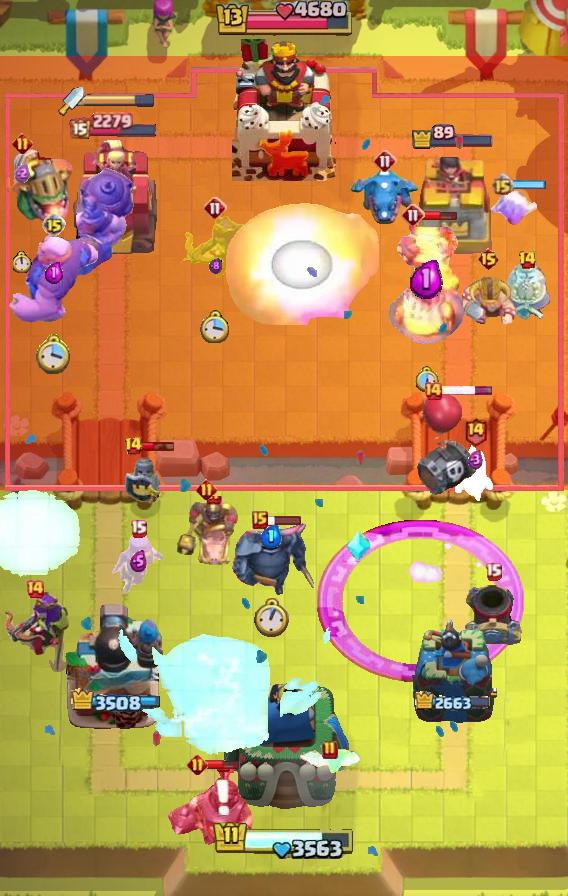balloon: (7, 233, 101, 325)
bar: (70, 138, 158, 256)
barbarian: (297, 748, 363, 778)
barbarian-hut: (176, 214, 254, 300), (0, 589, 75, 675)
bat: (455, 444, 495, 502)
clock: (212, 820, 356, 862), (213, 1, 355, 39)
electro-dragon: (387, 219, 465, 347)
electro-spirit: (409, 258, 443, 299), (261, 524, 282, 547), (45, 260, 63, 283), (130, 550, 147, 572), (14, 163, 30, 183), (469, 450, 483, 470), (210, 258, 223, 274)
elixir: (35, 332, 72, 374), (254, 598, 289, 638), (200, 309, 230, 342), (414, 366, 438, 393), (12, 251, 31, 273)
elixir-collector: (499, 262, 555, 322)
emote: (442, 385, 495, 396), (140, 440, 176, 452), (266, 514, 302, 526), (204, 759, 240, 771), (422, 210, 458, 221), (513, 178, 548, 189)
freeze: (172, 496, 240, 570)
goblin-giant: (460, 275, 516, 329)
golemite: (228, 520, 314, 596)
graveyard: (349, 165, 421, 227)
king-tower: (219, 678, 349, 826), (232, 39, 336, 181)
king-tower-bar: (84, 93, 156, 107)
knight-evolution: (317, 518, 524, 682)
mega-knight: (117, 613, 334, 759), (1, 487, 84, 581)
mirror: (491, 189, 541, 227)
musketeer: (462, 581, 524, 649)
night-witch: (0, 147, 76, 225)
pad_2: (346, 530, 372, 562)
princess: (124, 450, 164, 508)
queen-tower: (409, 616, 497, 731), (410, 154, 496, 256)
rascal-girl: (110, 532, 166, 598)
royal-guardian: (164, 766, 260, 856)
royal-recruit-evolution: (412, 391, 478, 495)
selected: (69, 111, 159, 139), (68, 688, 159, 714), (411, 124, 495, 150), (416, 690, 493, 714)
text: (463, 417, 488, 448), (373, 149, 397, 173), (203, 196, 227, 220), (401, 203, 425, 227), (42, 213, 66, 237), (491, 172, 514, 196), (477, 247, 500, 271), (195, 479, 217, 501), (11, 133, 32, 154), (188, 754, 209, 775), (423, 381, 443, 401), (25, 579, 45, 599), (518, 250, 537, 270), (124, 436, 143, 456), (130, 519, 147, 538), (322, 740, 338, 760), (485, 563, 502, 581), (252, 511, 268, 529)
tower-bar: (64, 601, 164, 731)
valkyrie: (225, 203, 381, 325)
wizard: (55, 166, 137, 280)
